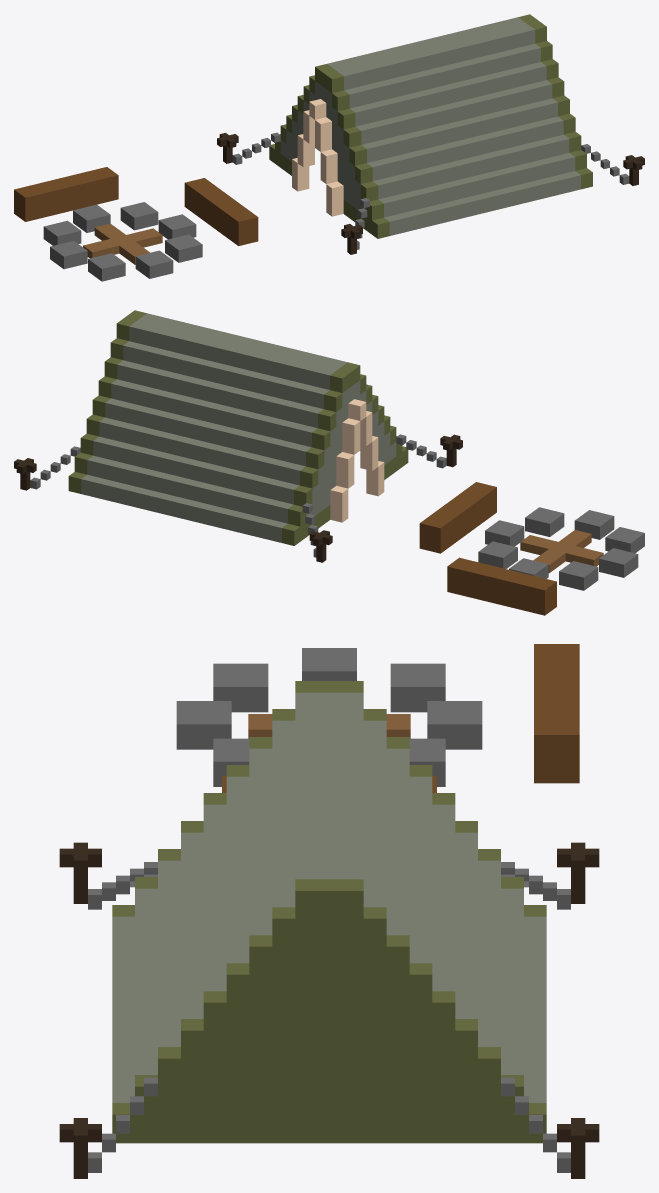
File: SM_Fireplace.fbx
3 renders of one model, top to bottom at view 1: azimuth 30°, elevation 25°; view 2: azimuth 150°, elevation 25°; view 3: azimuth 270°, elevation 25°, orthographic. The views are drawn at different scales.
Parts seen in each view (by area): view 1: SM_Tent, SM_Fireplace; view 2: SM_Tent, SM_Fireplace; view 3: SM_Tent, SM_Fireplace.
Boxes of the visible parts, bbox=[...] form: SM_Tent: bbox=[217, 14, 644, 254]; SM_Fireplace: bbox=[14, 167, 258, 281]; SM_Tent: bbox=[14, 310, 462, 562]; SM_Fireplace: bbox=[419, 482, 644, 615]; SM_Tent: bbox=[59, 681, 599, 1178]; SM_Fireplace: bbox=[176, 644, 579, 792].
Bounding box in the file's own units: 14.31 × 6.38 × 3.3.
